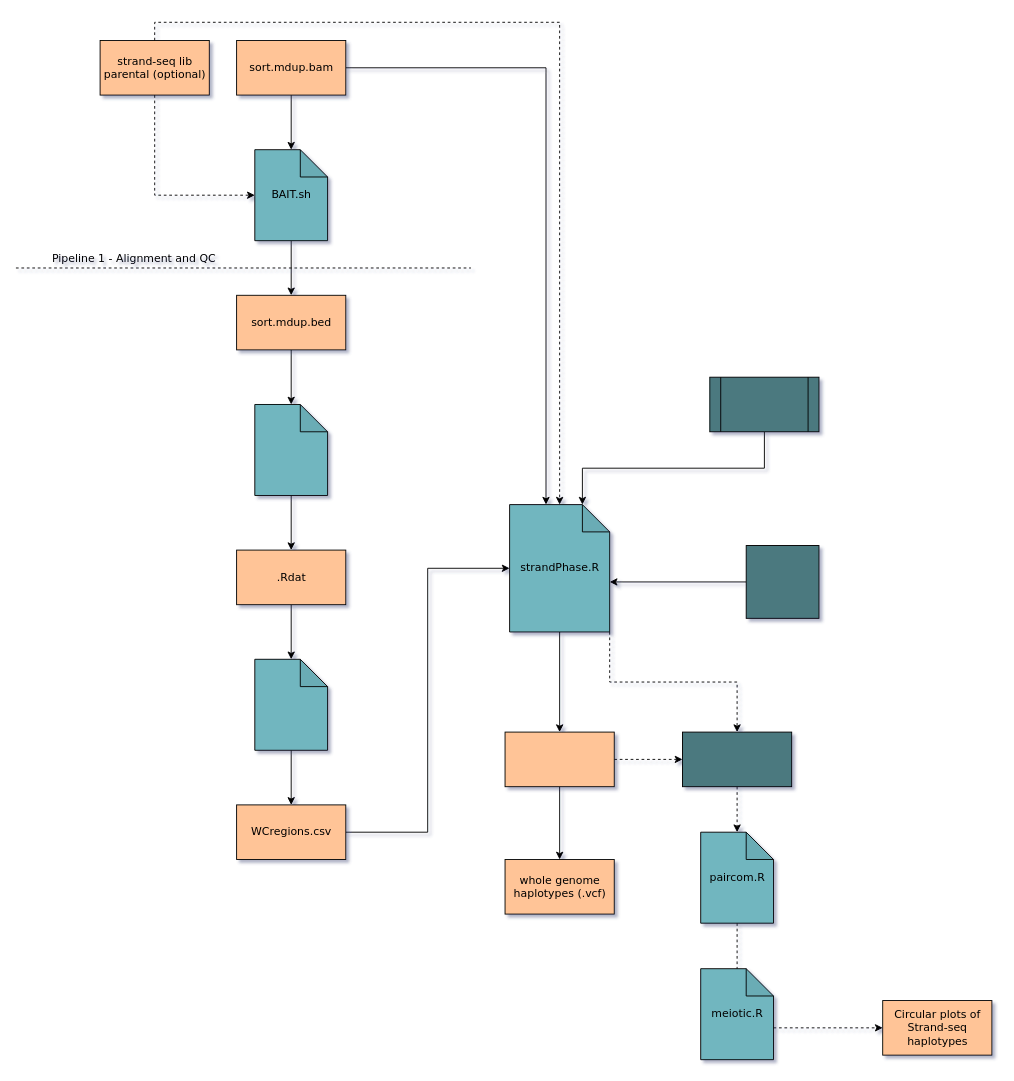
Image size: 1014x1081. Some labels were removed from this diagram. Each missing label, with the centre of its shape:
breakpoint.R: the point at 291,449
homolog specific bam: the point at 559,759
homolog specific bam (parental): the point at 737,759
printWC.R: the point at 291,704
ref-seq GRCh38 (.fa): the point at 782,581
SNV callset: the point at 764,404
